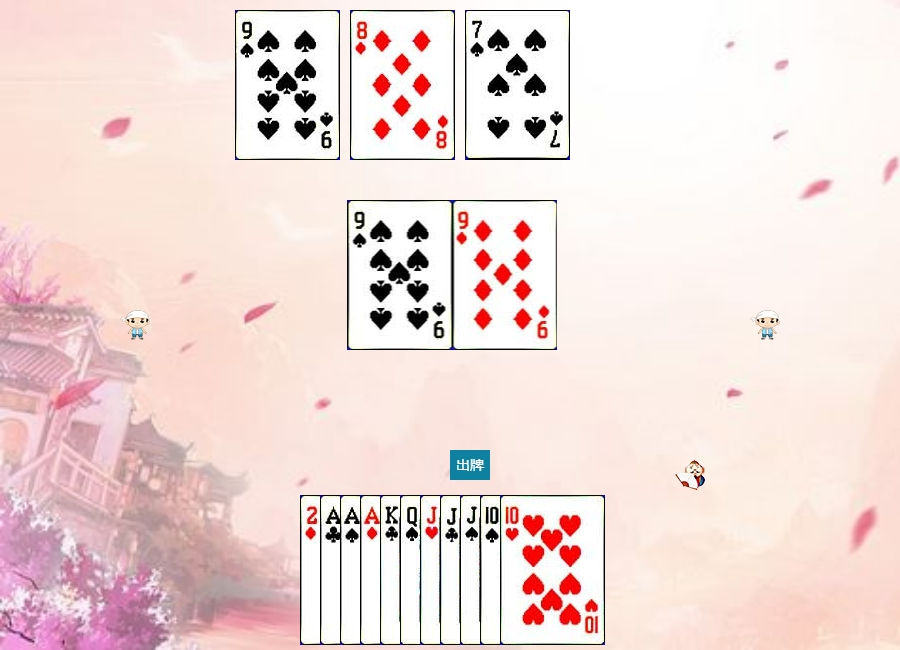10~3: (500, 495, 605, 645)
10~4: (480, 495, 585, 645)
11~2: (440, 495, 545, 645)
11~3: (420, 495, 525, 645)
11~4: (460, 495, 565, 645)
12~4: (400, 495, 505, 645)
13~2: (380, 495, 485, 645)
14~1: (360, 495, 465, 645)
14~2: (320, 495, 425, 645)
14~4: (340, 495, 445, 645)
15~1: (300, 495, 405, 645)
7~4: (465, 10, 570, 160)
8~1: (350, 10, 455, 160)
9~1: (453, 200, 558, 350)
9~4: (235, 10, 340, 160), (348, 200, 453, 350)
